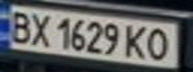1: (51, 15, 72, 51)
2: (84, 18, 106, 55)
6: (66, 16, 87, 52)
9: (100, 20, 124, 57)
B: (3, 8, 36, 44)
K: (121, 22, 151, 61)
O: (142, 26, 175, 62)
X: (24, 11, 54, 47)
